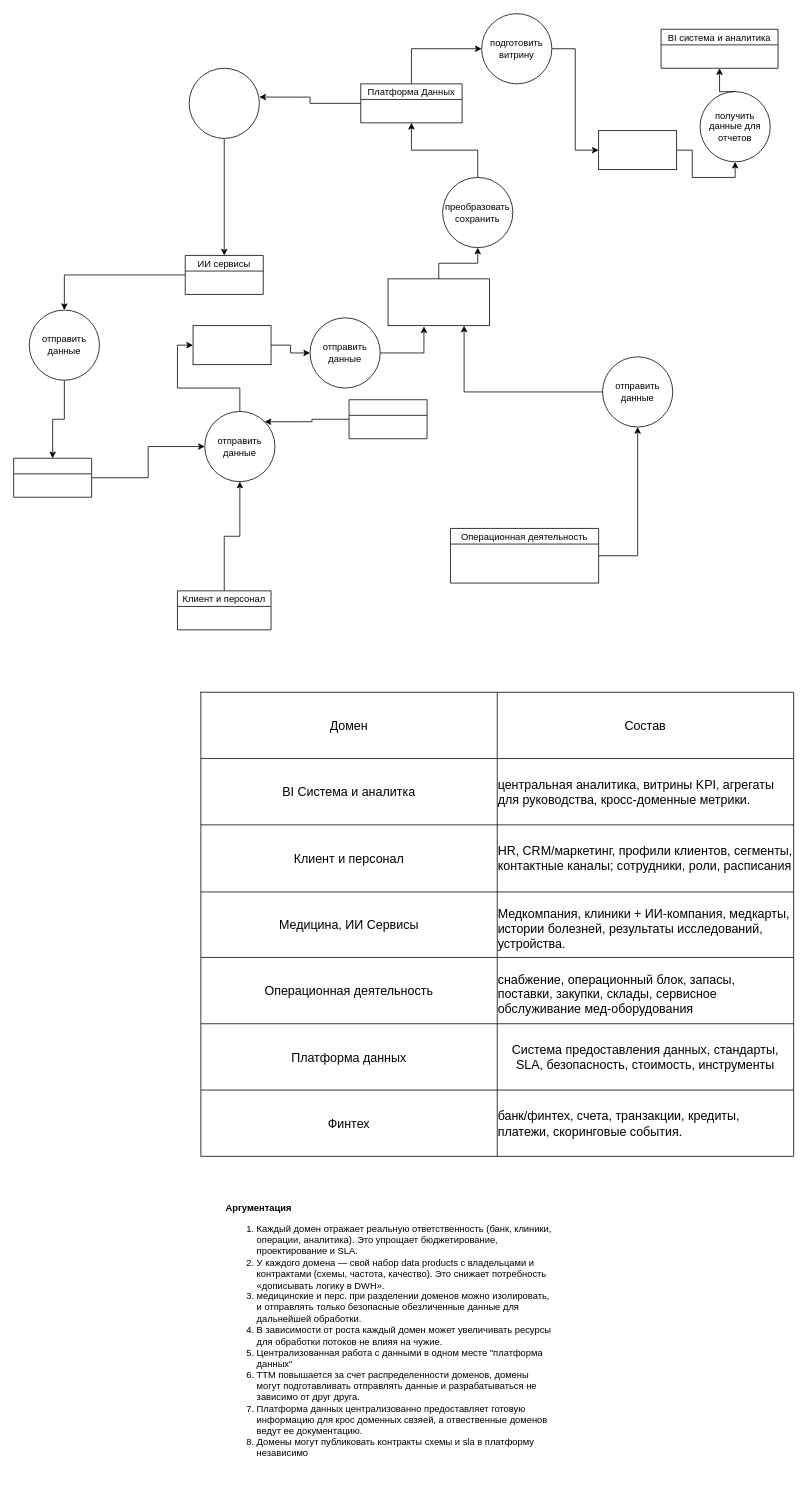
The diagram is 807 pixels wide and 1486 high, and some of its shapes have lost their labels. Here are the shapes that lost their labels. From the top down, the box of each, then its label:
(188, 67, 259, 138): получить данные для обучения
(598, 130, 677, 170): clickhouse
(387, 278, 489, 326): Camel/Kafka/Debizium /Cdc/Flink
(192, 325, 271, 365): сервис обезличивания данных
(348, 399, 427, 439): Финтех сервисы
(13, 457, 92, 497): Медецина
